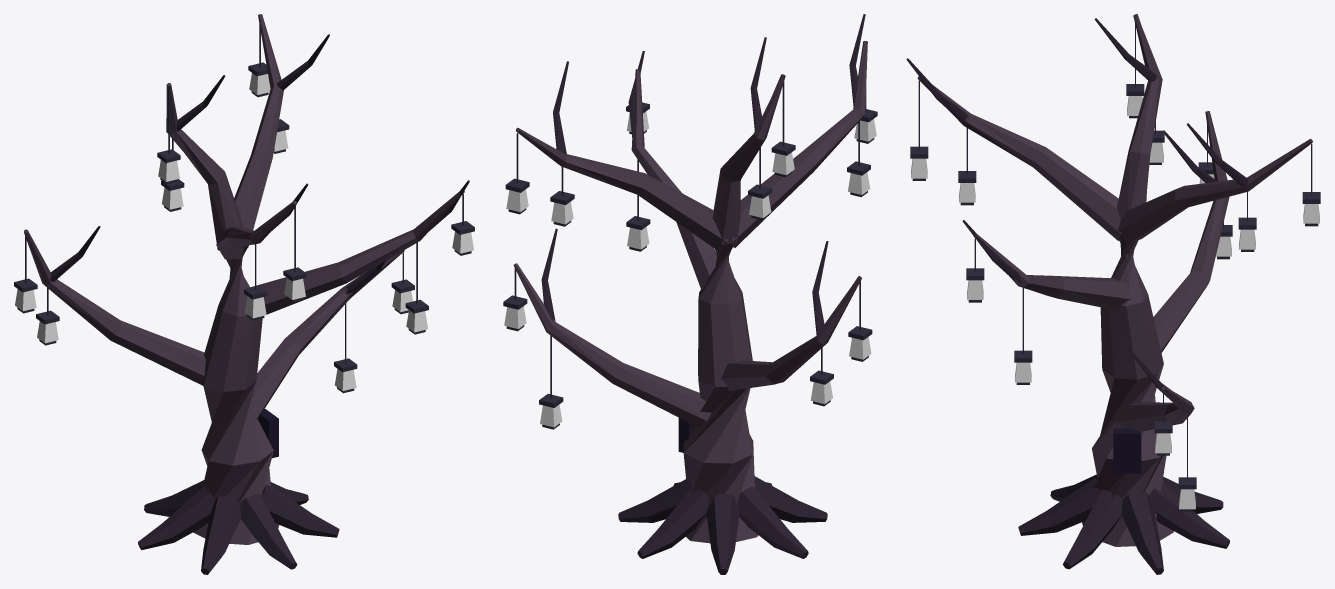
Rendered from Fair_LanternTree.fbx.
3 views of the same model, side by side, from view 1: azimuth 30°, elevation 25°; view 2: azimuth 150°, elevation 25°; view 3: azimuth 270°, elevation 25° (orthographic). The views are drawn at different scales.
Visible parts, largest first — view 1: Fair_LanternTree; view 2: Fair_LanternTree; view 3: Fair_LanternTree.
Boxes of the visible parts, x1,y1,x2,y2 form: Fair_LanternTree: (14, 14, 474, 574); Fair_LanternTree: (503, 14, 877, 574); Fair_LanternTree: (906, 14, 1320, 574).
Size of what is drawn, in the model's own units: 11.25 by 13.78 by 10.35.
2 materials, 1 textured.
